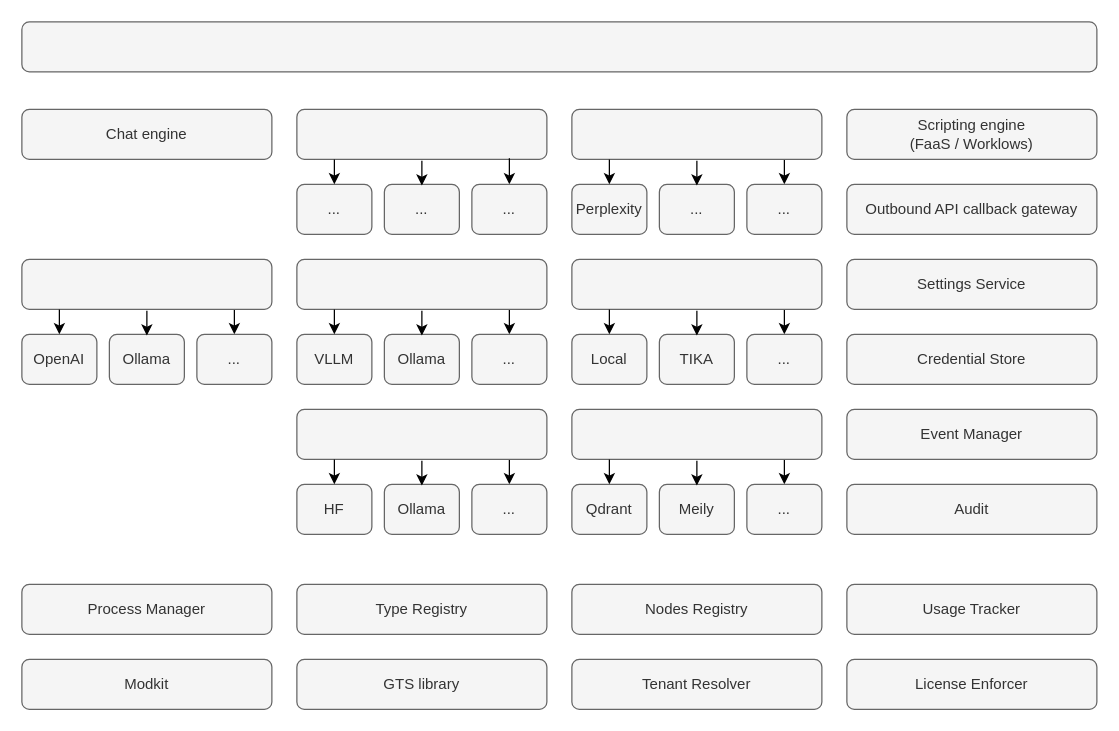
Image size: 1119x731. Some labels were removed from this diagram. Here are the shapes that lost their labels. From the top down, the centre of each, then its label:
(559,46): API ingress
(421,133): MCP gateway
(696,133): Cloud Search Gateway
(146,283): LLM gateway (inference, embedding)
(421,283): Local LLM management gateway
(696,283): File Parser Gateway
(421,433): Local LLM downloader
(696,433): RAG
